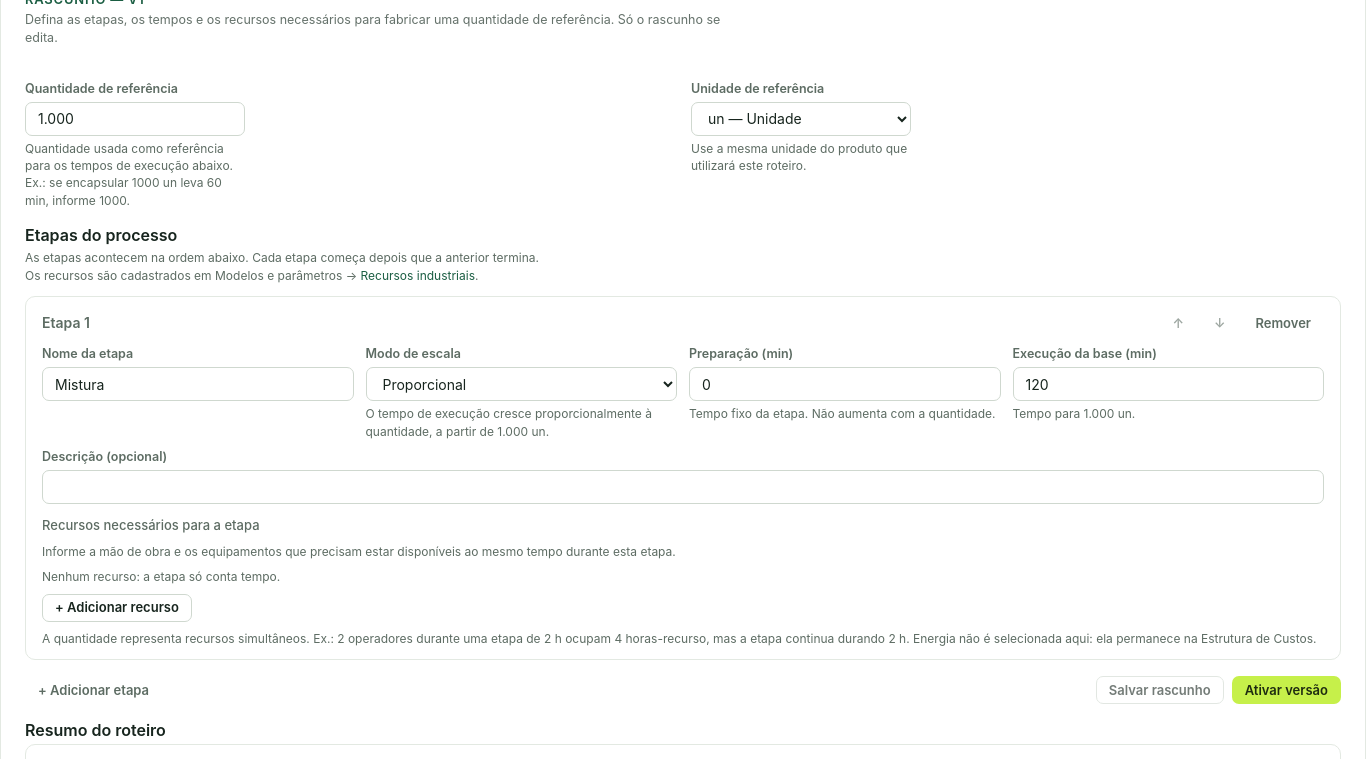
Test: Roteiro de Produção — guarda de alterações não salvas › alterar o tempo de uma etapa também pergunta
(page scrolled)
Expected: the field labelled "Quantidade de referência" is shown, top-left (25, 102), bottom-right (245, 136)
PROPORTIONAL: o rótulo é "Execução da base (min)".
Replace the text in the field labelled "Execução da base (min)" with "150". click: (1168, 384)
box: top-left (1012, 367), bottom-right (1324, 401)
(page scrolled)
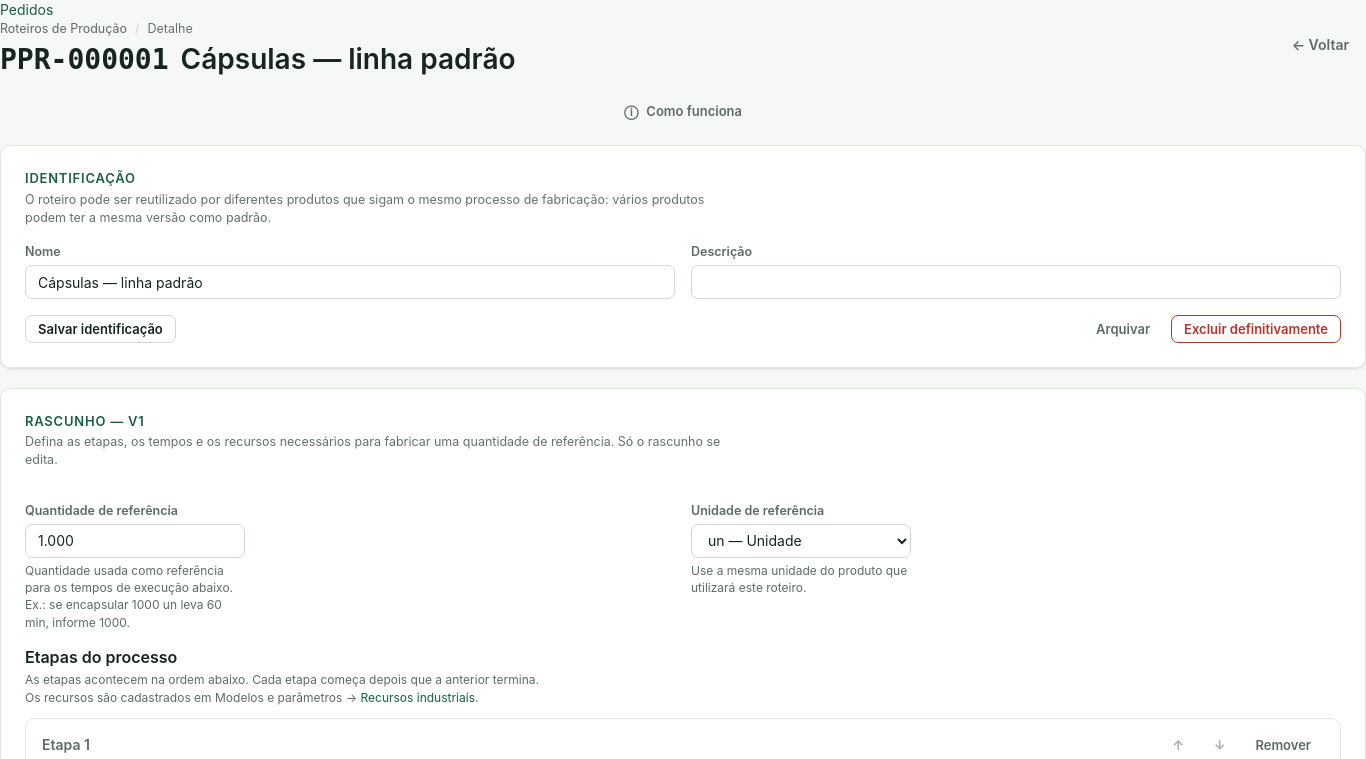
Click the link "Pedidos". click: (27, 10)
box: top-left (0, 1), bottom-right (53, 18)
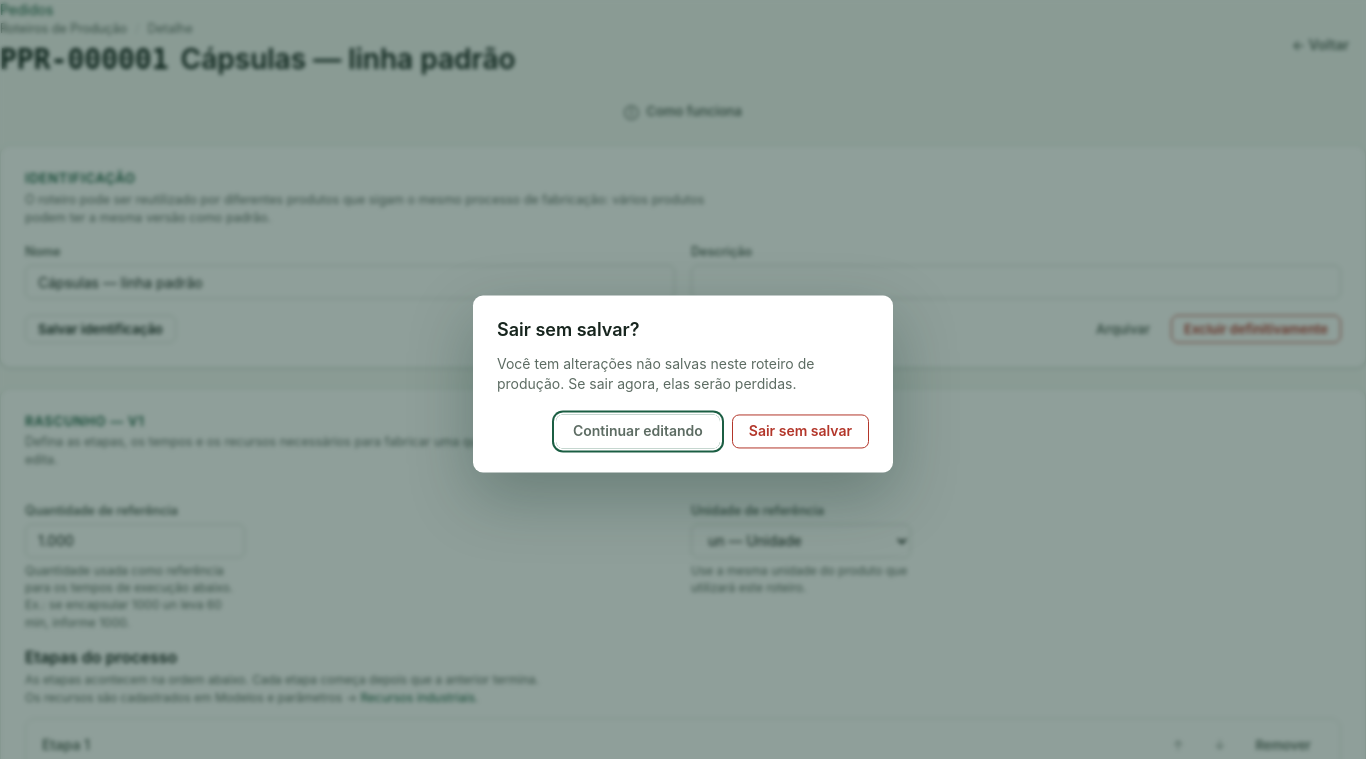
Expected: the heading "Sair sem salvar?" is shown, top-left (497, 320), bottom-right (640, 340)
